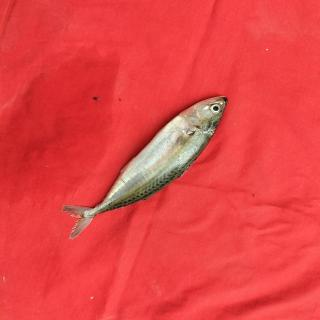Ikan: (53, 69, 239, 251)
